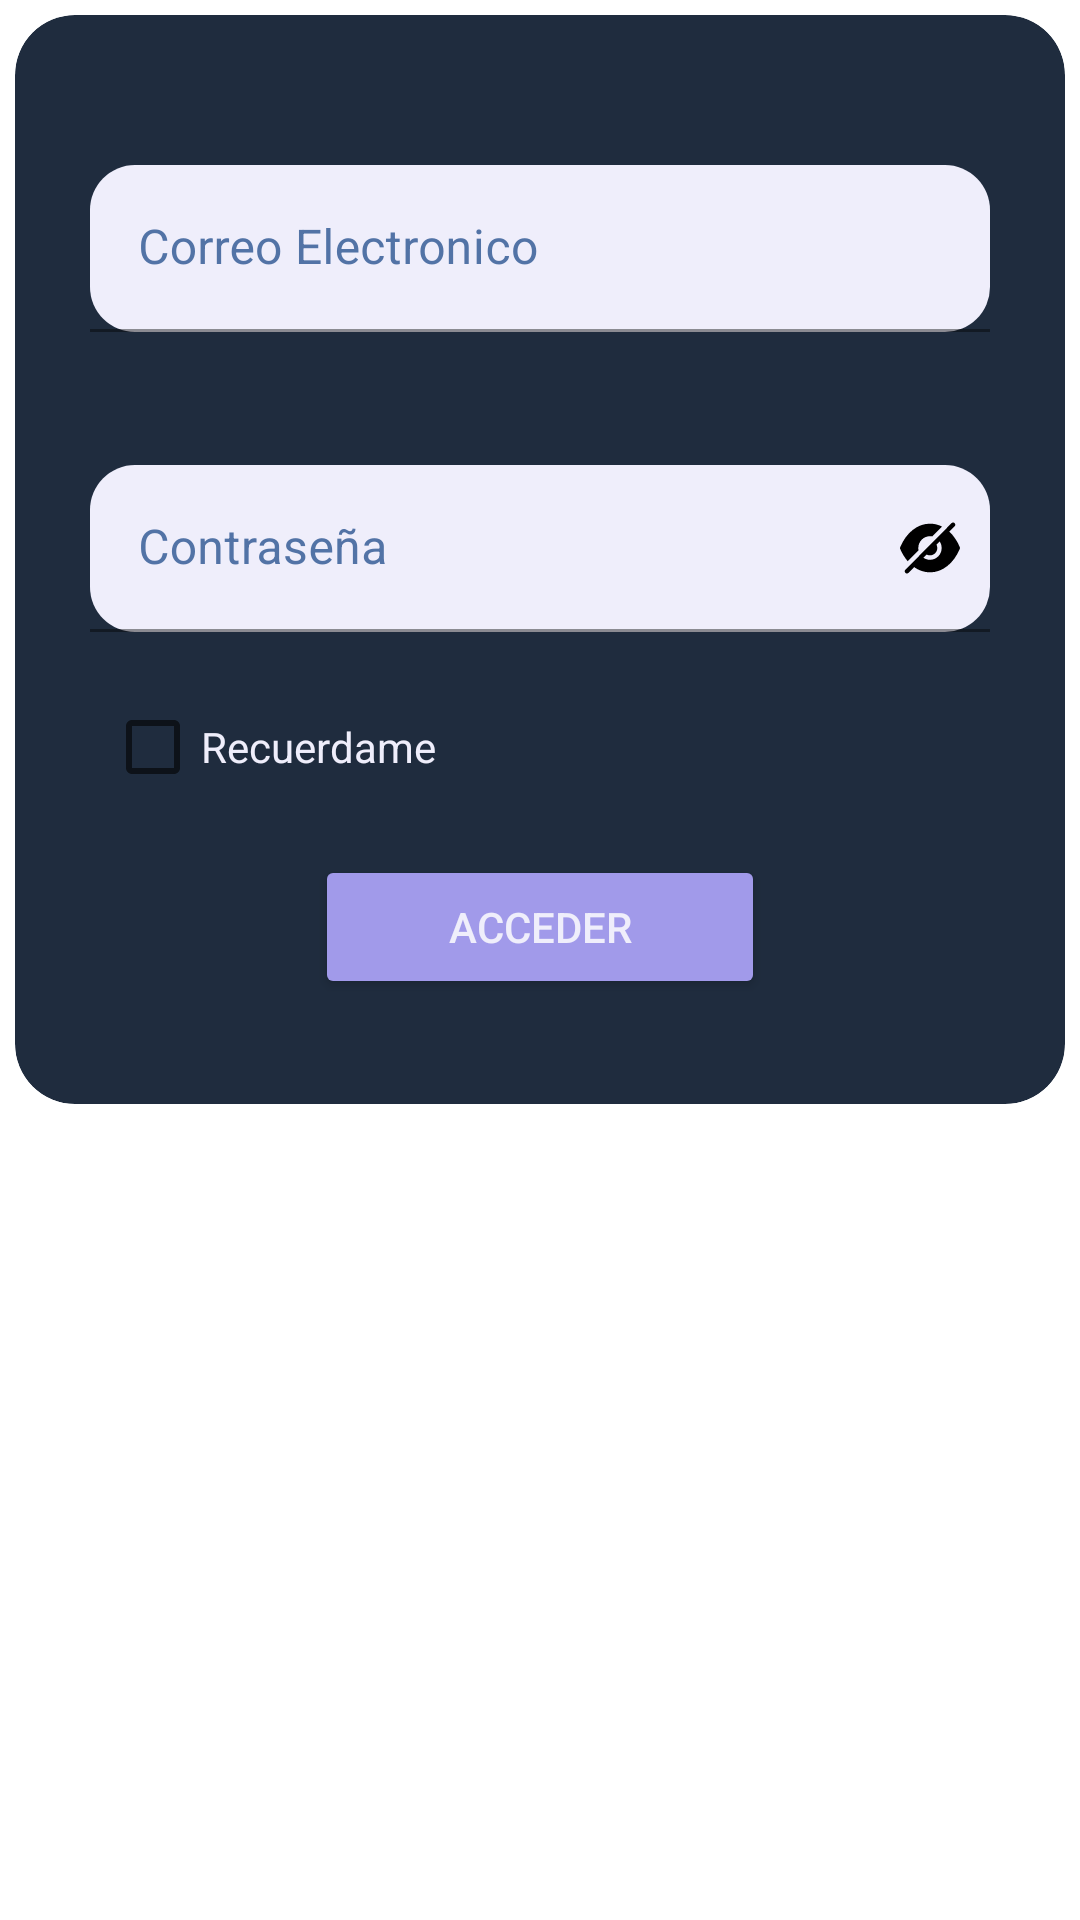

Named icons in this screenshot (1080*1920) and their centers, [x,y]:
hide pass: [930,548]
